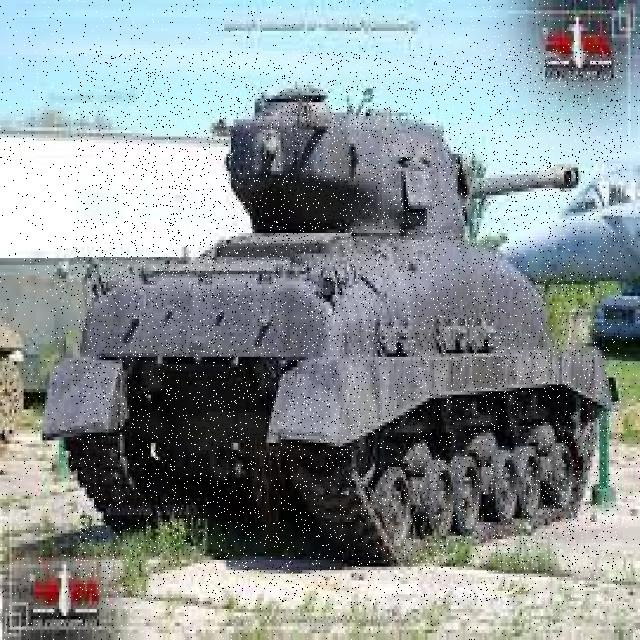MIL_MBT: (75, 51, 621, 605)
